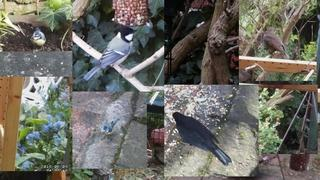blackbird: (172, 111, 232, 166)
blue tit: (100, 118, 120, 144), (30, 27, 46, 51)
great tit: (83, 27, 138, 81)
starling: (263, 27, 290, 60)
